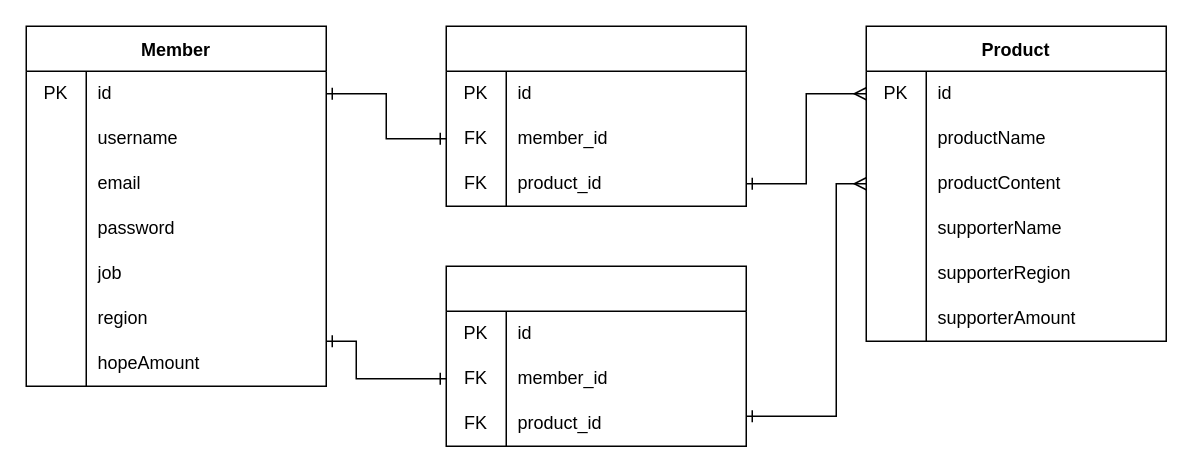
Some shapes in this 1193 by 473 pixel diagram are drawn without their labels. The shapes that lost their labels are listed below. From the top down, each one's box as (x1, y1, x2, y2) in pixels, then its label:
(445, 25, 746, 206): Cart
(445, 265, 746, 446): Bookmark
